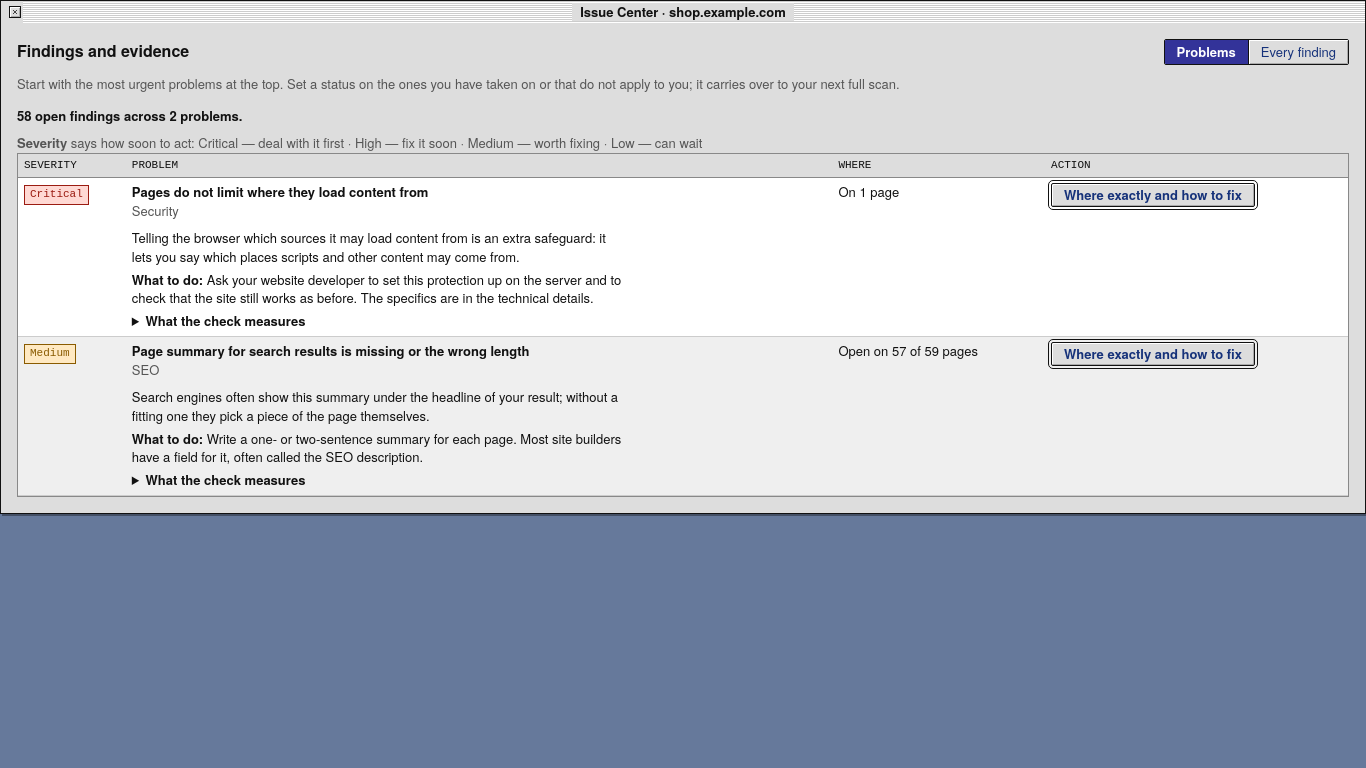
it: the Issue Center › keeps the Problem column on the unfiltered tab, whatever one page holds
What coordinates should you click on to do the following:
click the button "Every finding"
I would click on:
 (1298, 52)
Its box is left=1249, top=40, right=1348, bottom=64.
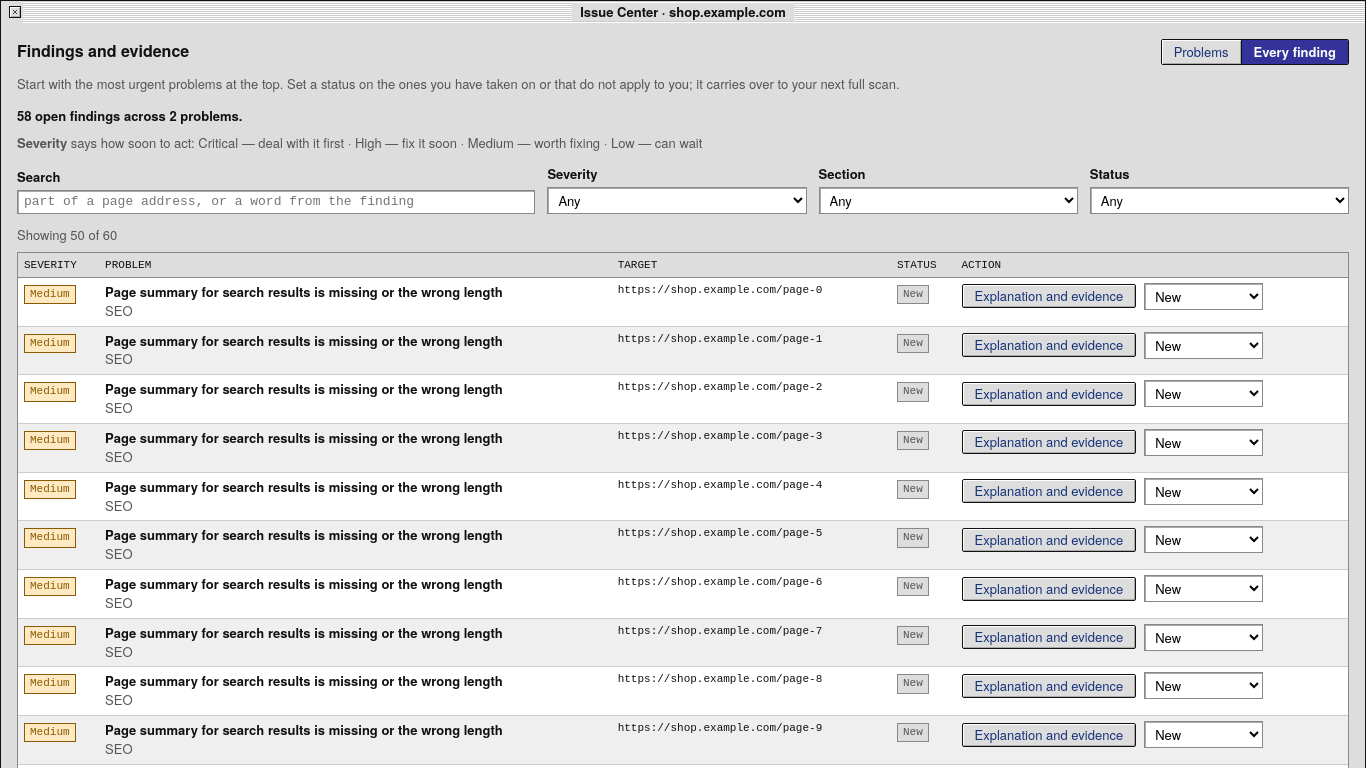
Expected: the column heading "Problem" is shown, left=99, top=253, right=612, bottom=277
Now the text "Showing 50 of 60" is shown, box left=17, top=225, right=117, bottom=244
Now the text "Page summary for search results is missing or the wrong length" is shown, box left=105, top=282, right=503, bottom=301
